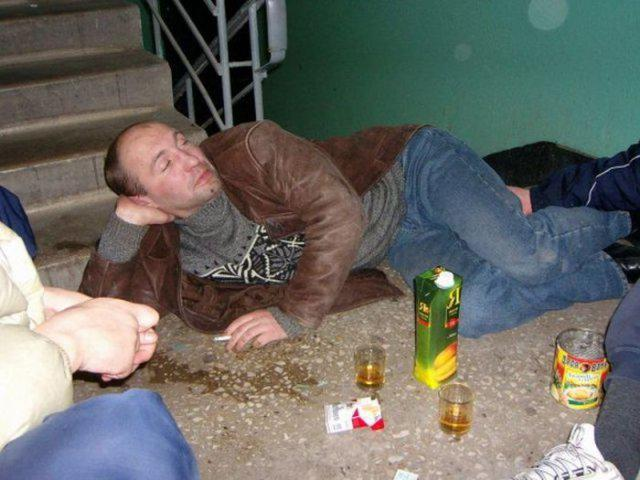Drunk: (118, 119, 219, 203)
